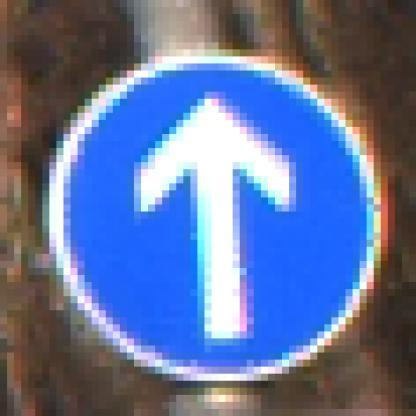straight: (28, 42, 402, 388)
